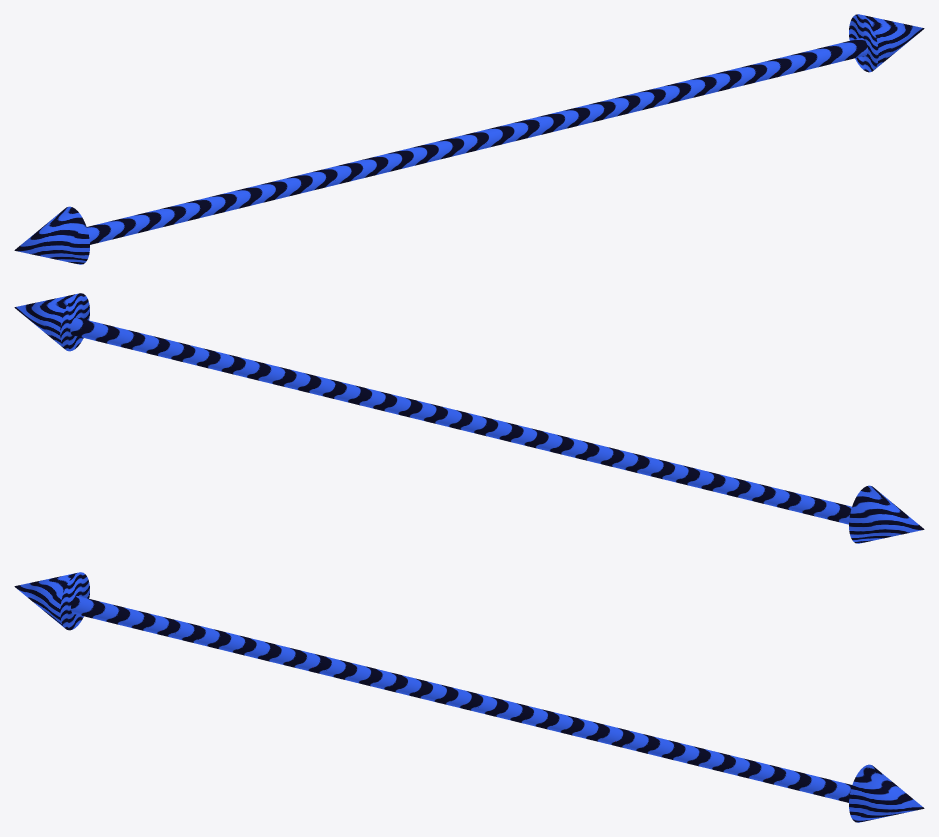
File: Spotlight_BlueArrow_Straight.glb
The picture shows the model from 3 angles, top to bottom: view 1: azimuth 30°, elevation 25°; view 2: azimuth 150°, elevation 25°; view 3: azimuth 330°, elevation 25°; orthographic projection.
Parts seen in each view (by area): view 1: Cylinder.041, Cone.021, Cone.025; view 2: Cylinder.041, Cone.021, Cone.025; view 3: Cylinder.041, Cone.025, Cone.021.
Boxes of the visible parts, x1,y1,x2,y2 form: Cylinder.041: [86, 38, 867, 244]; Cone.021: [14, 206, 89, 264]; Cone.025: [849, 14, 924, 72]; Cylinder.041: [70, 317, 851, 524]; Cone.021: [849, 485, 924, 543]; Cone.025: [14, 293, 89, 351]; Cylinder.041: [71, 596, 852, 802]; Cone.025: [849, 764, 924, 822]; Cone.021: [14, 572, 89, 630].
Bounding box in the file's own units: 1.59 × 0.0901 × 0.0901.
Materials: 1 (1 with a texture image).
